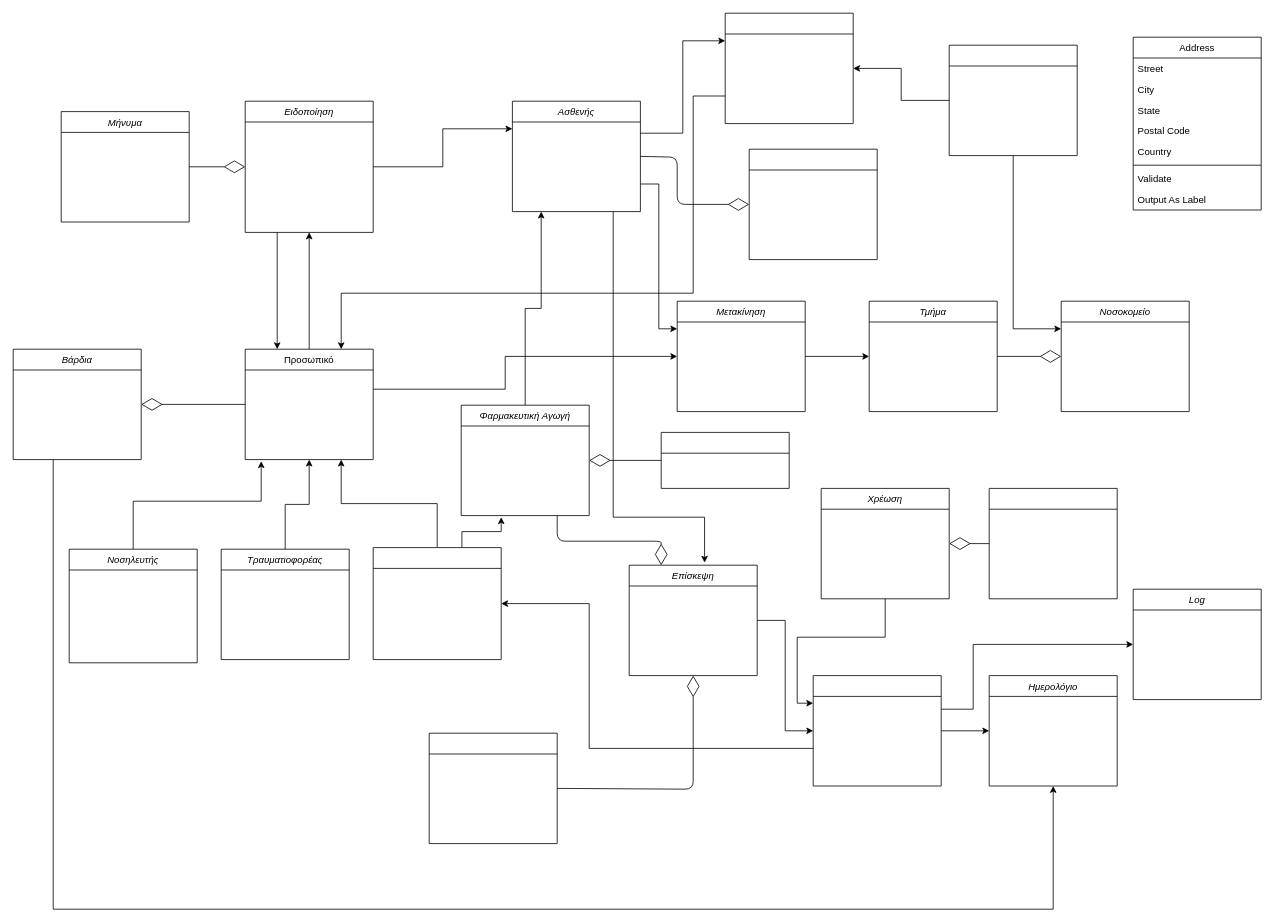
The diagram is 1274 pixels wide and 922 high, and some of its shapes have lost their labels. Each missing label, with the centre of its shape:
Αξιολόγηση: the point at 788,68
Απόδειξη: the point at 1052,543
Διαχειριστής: the point at 1012,100
Εξέταση: the point at 492,788
Ιατρικό Ιστορικό: the point at 812,204
Ιατρός: the point at 436,603
Ραντεβού: the point at 876,730
Φάρμακο: the point at 724,460
